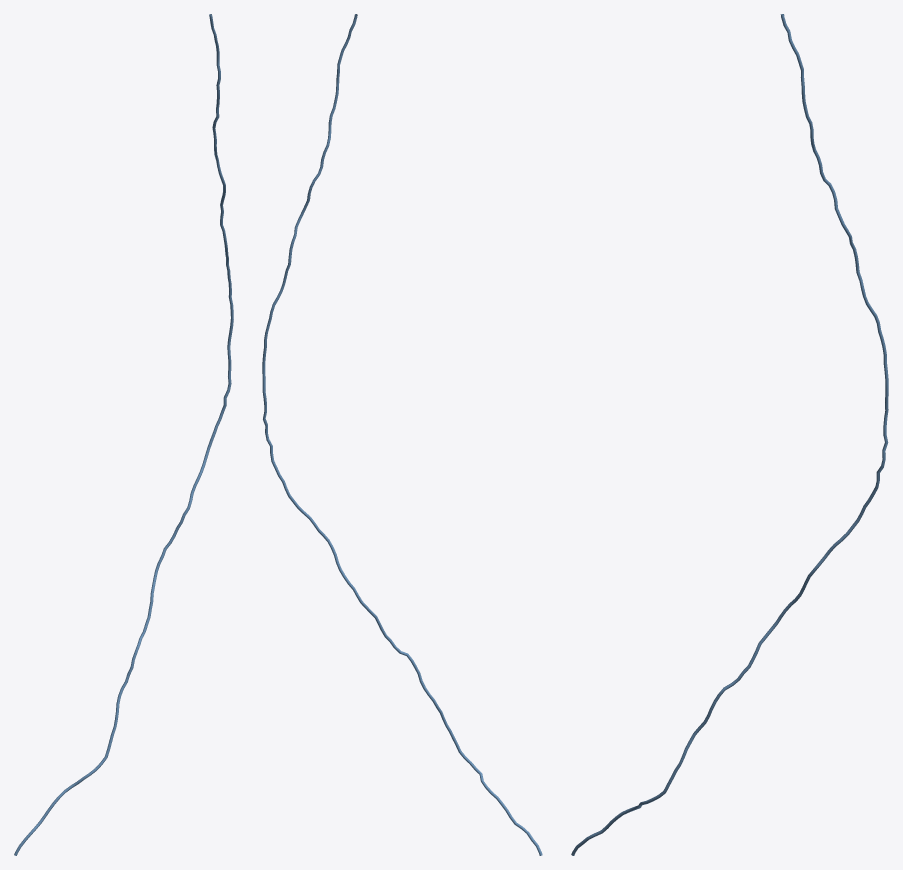
File: sweep101.fbx
3 views of the same model, side by side, from view 1: azimuth 30°, elevation 25°; view 2: azimuth 150°, elevation 25°; view 3: azimuth 330°, elevation 25° (orthographic). The views are drawn at different scales.
Visible parts, largest first — view 1: sweep101; view 2: sweep101; view 3: sweep101.
Boxes of the visible parts, x1,y1,x2,y2 form: sweep101: (14,14,233,855); sweep101: (262,14,542,855); sweep101: (571,14,888,855).
Size of the model in its own units: 1.88 by 5.72 by 0.5058.
